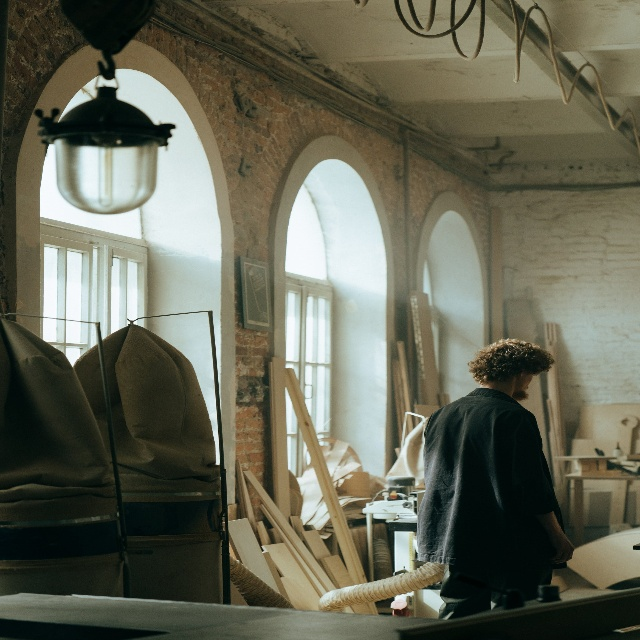Sin_guantes: (551, 528, 574, 564)
